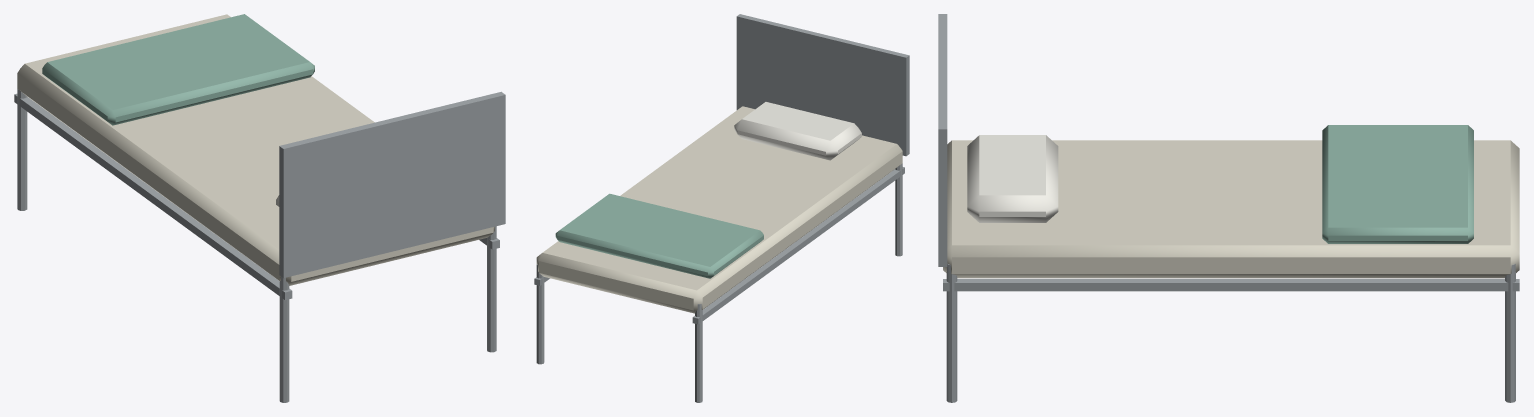
File: uks_bed.glb
The picture shows the model from 3 angles, left to right: view 1: azimuth 30°, elevation 25°; view 2: azimuth 150°, elevation 25°; view 3: azimuth 270°, elevation 25°; orthographic projection. The views are drawn at different scales.
Parts seen in each view (by area): view 1: UksBed; view 2: UksBed; view 3: UksBed.
Part boxes in pixels (x1,y1,x2,y2): UksBed: (14, 14, 505, 402); UksBed: (534, 14, 909, 402); UksBed: (938, 14, 1519, 402).
Bounding box in the file's own units: 0.9 × 1 × 1.91.
